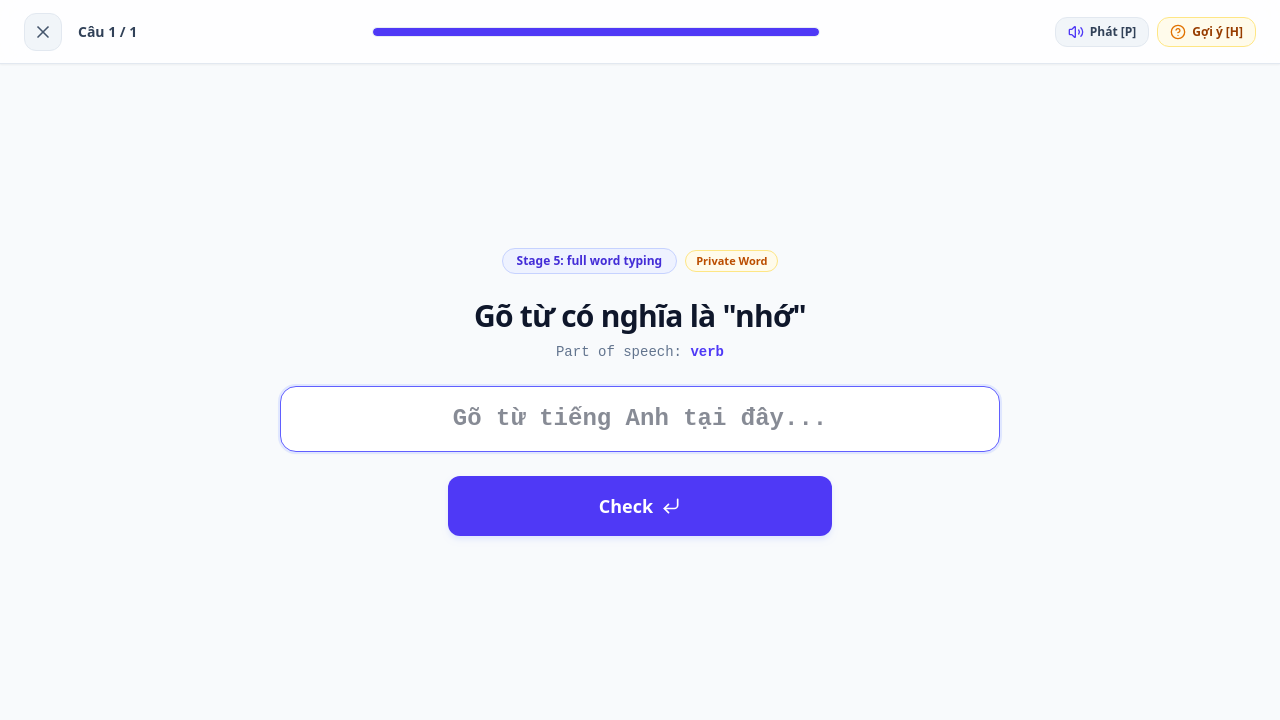
Scenario: LearningSessionView session completion › shows every meaning with all three examples in the correct-answer overlay
Type "remember" into the field with placeholder "Gõ từ tiếng Anh tại đây..." at (640, 419), box top-left (280, 386), bottom-right (1000, 452)
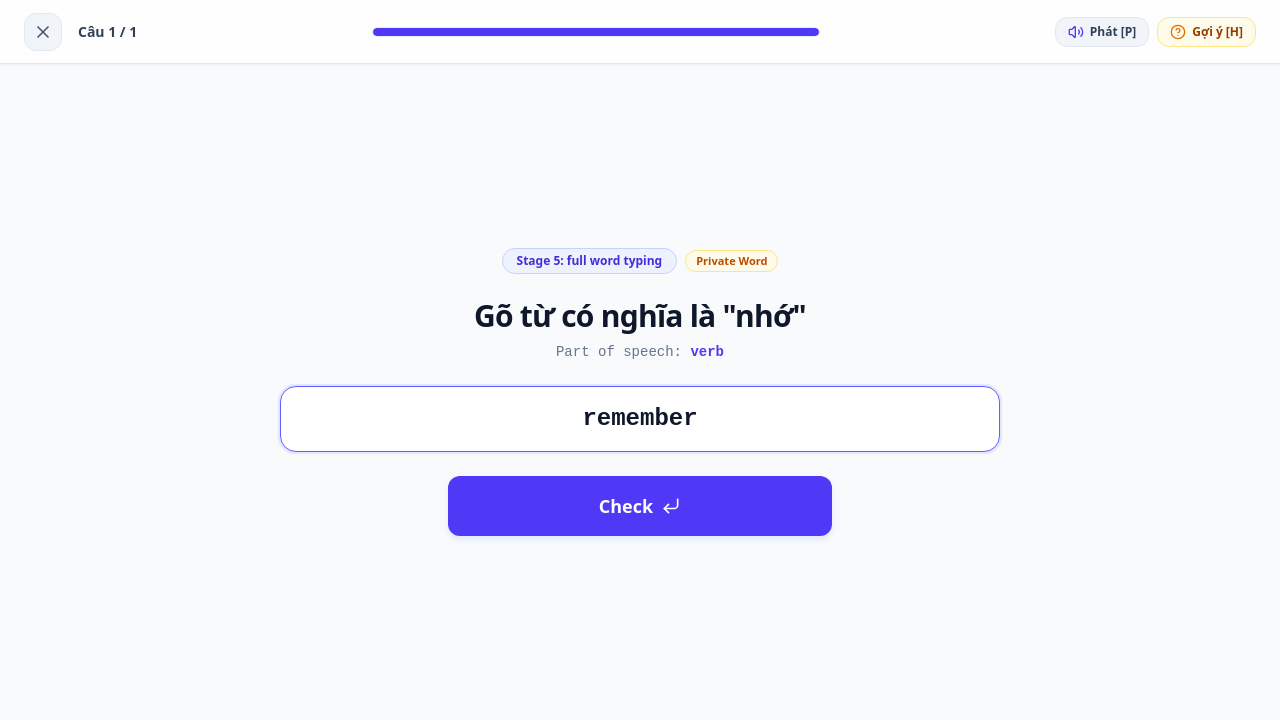
Click the button "Check" at (640, 506), box top-left (448, 476), bottom-right (832, 536)
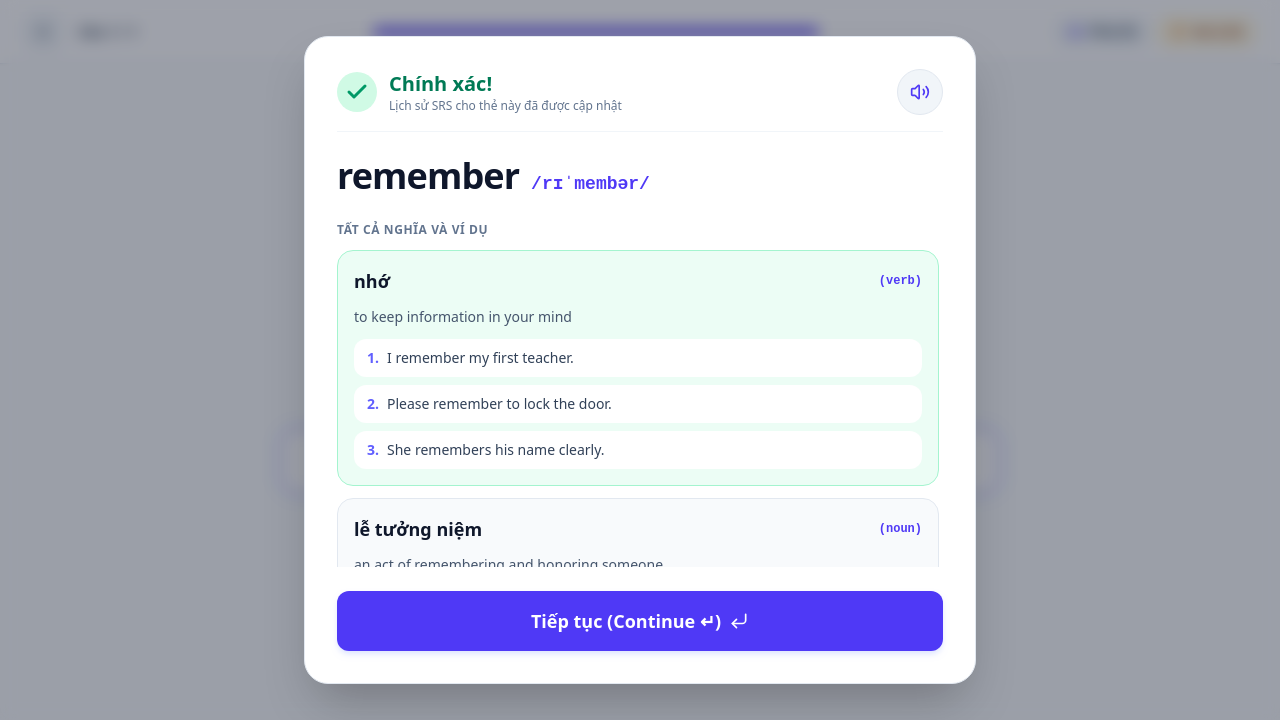
Check: the heading "Chính xác!" is shown, box top-left (389, 70), bottom-right (492, 97)
Check: the text "to keep information in your mind" is shown, box top-left (354, 307), bottom-right (572, 326)
Check: the text "an act of remembering and honoring someone" is shown, box top-left (354, 555), bottom-right (663, 567)
